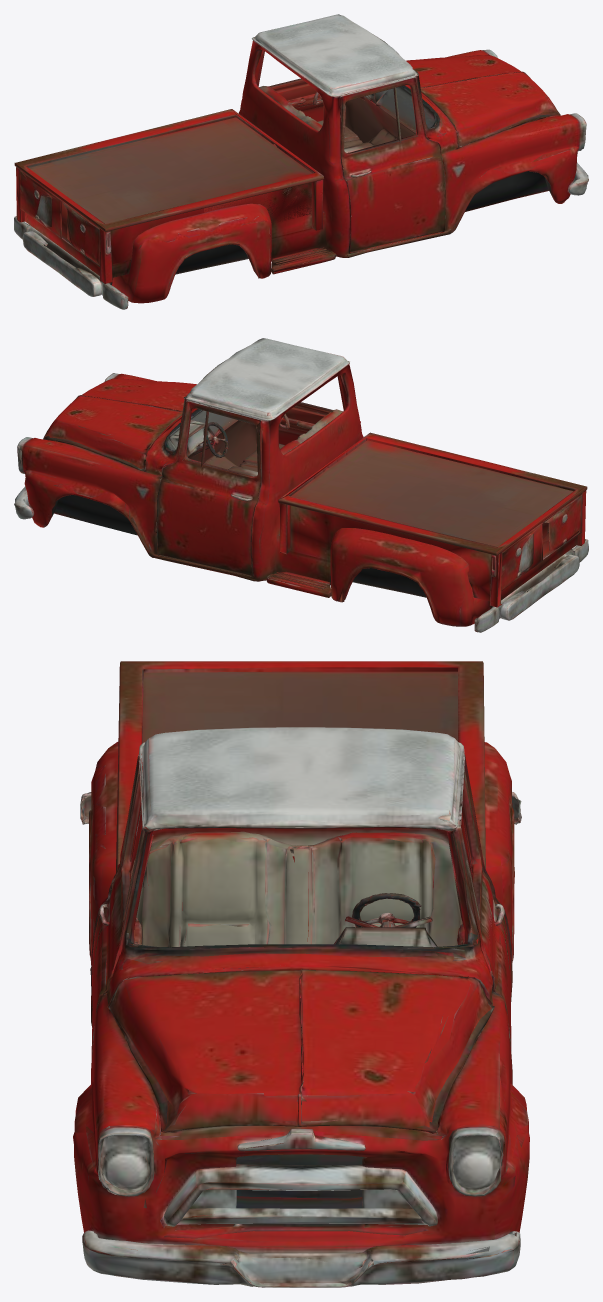
Rendered from red_pickup.glb.
The picture shows the model from 3 angles, top to bottom: view 1: azimuth 30°, elevation 25°; view 2: azimuth 150°, elevation 25°; view 3: azimuth 270°, elevation 25°; orthographic projection. The views are drawn at different scales.
Parts seen in each view (by area): view 1: red_pickup; view 2: red_pickup; view 3: red_pickup.
Boxes of the visible parts, box(x1,y1,x2,y2) form: red_pickup: box(14, 14, 588, 309); red_pickup: box(14, 338, 588, 632); red_pickup: box(73, 661, 529, 1287).
Bounding box in the file's own units: 5 × 1.59 × 2.02.
Materials: 1 (1 with a texture image).
